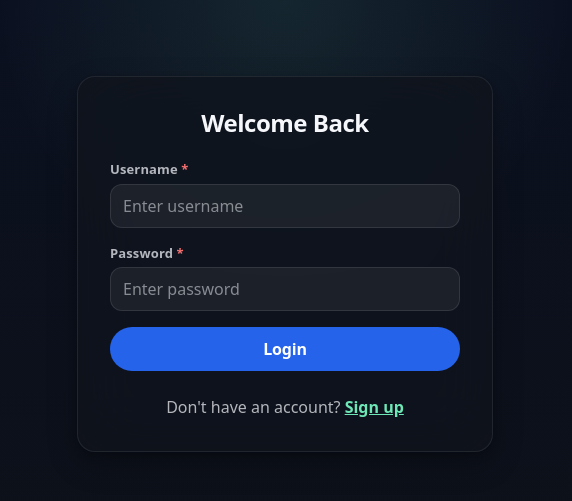
Login Component › shows error message when API returns error
The image size is (572, 501).
Type "testuser" into the field labelled "Username *".
click(285, 206); type("testuser")  # box [123,186,447,226]
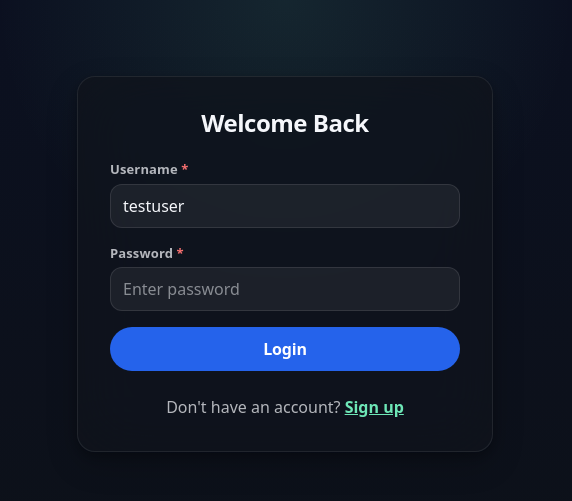
Type "wrongpassword" into the password field labelled "Password *".
click(285, 289); type("wrongpassword")  # box [123,269,447,309]
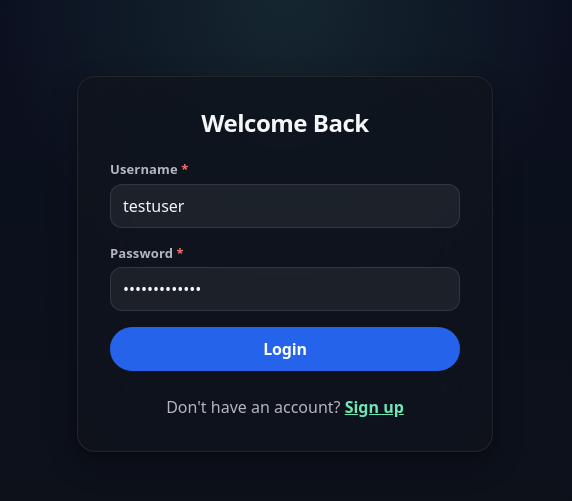
Click the button "Login".
click(285, 349)  # box [110,327,460,371]
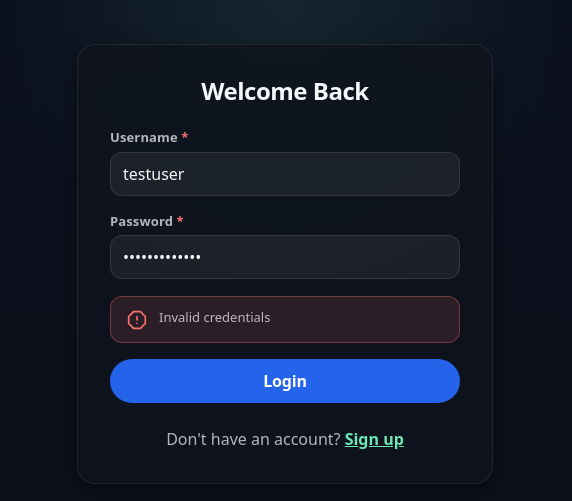
Check: the message reads "Invalid credentials", box [159,308,270,326]
